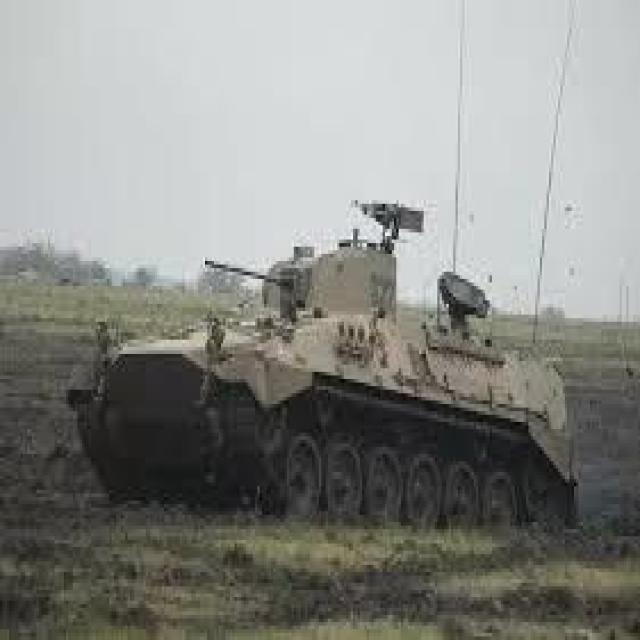MIL_MBT: (93, 222, 560, 511)
